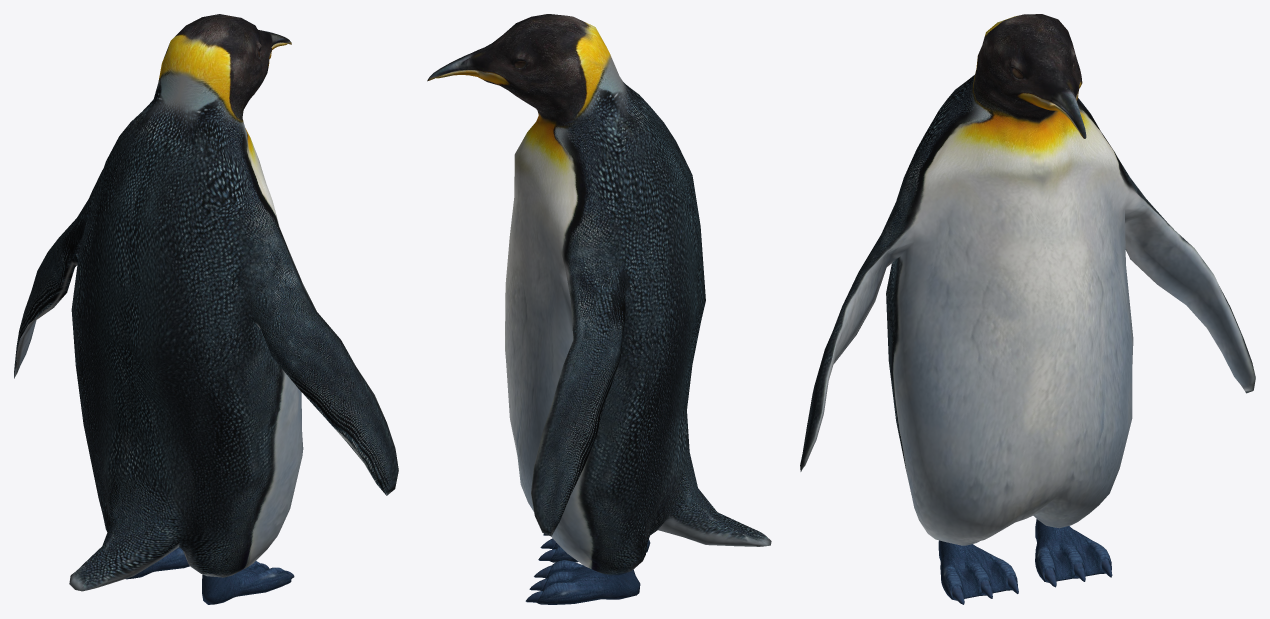
3 views of the same model, side by side, from view 1: azimuth 30°, elevation 25°; view 2: azimuth 150°, elevation 25°; view 3: azimuth 270°, elevation 25° (orthographic). The views are drawn at different scales.
Parts seen in each view (by area): view 1: penguin.010_penguin.012; view 2: penguin.010_penguin.012; view 3: penguin.010_penguin.012.
Part boxes in pixels (left/top/right/bottom): penguin.010_penguin.012: left=14, top=14, right=398, bottom=604; penguin.010_penguin.012: left=427, top=14, right=771, bottom=604; penguin.010_penguin.012: left=800, top=14, right=1255, bottom=604.
Bounding box in the file's own units: 11.88 × 22.22 × 16.22.
